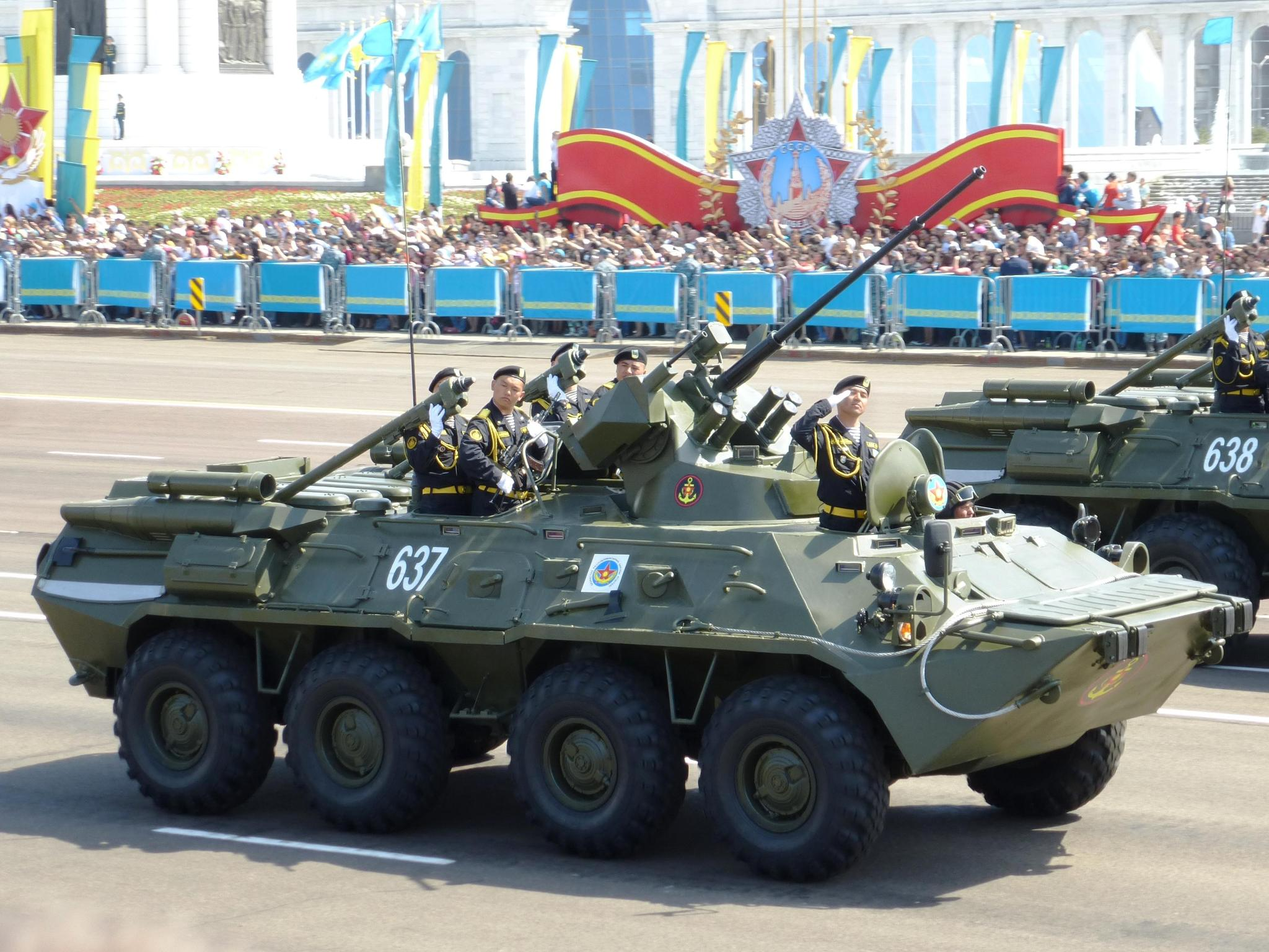tank: (49, 163, 1257, 922), (894, 308, 1269, 685)
